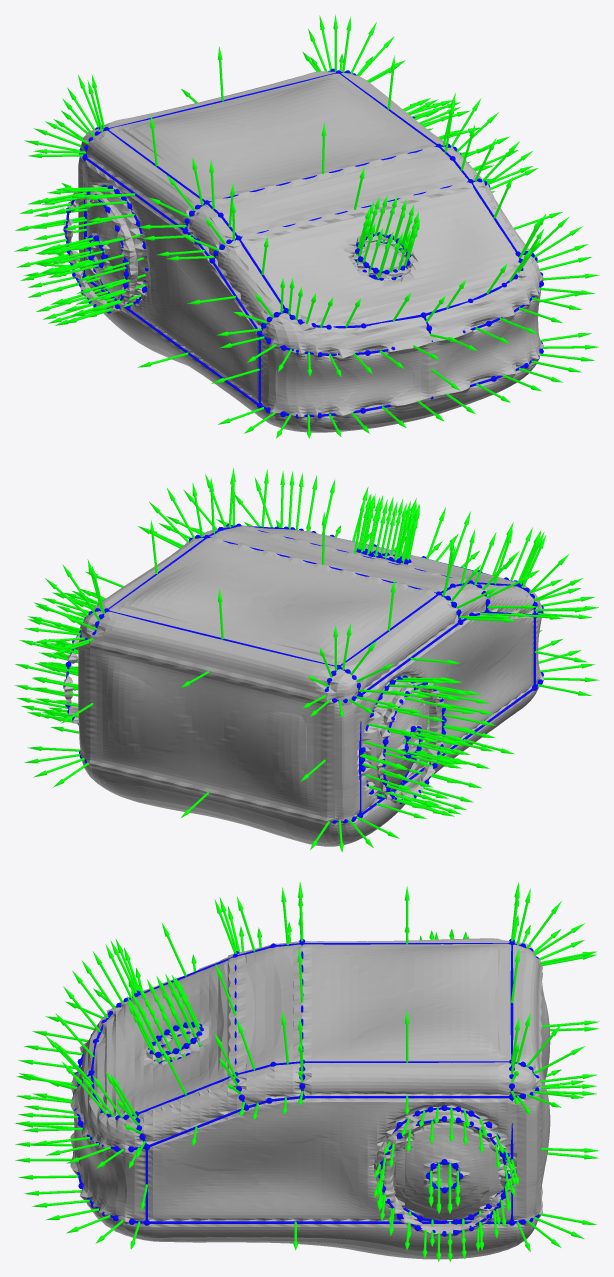
Rendered from onshape_vacuum.gltf.
3 views of the same model, one above another, from view 1: azimuth 30°, elevation 25°; view 2: azimuth 150°, elevation 25°; view 3: azimuth 270°, elevation 25° (orthographic). The views are drawn at different scales.
Size of the model in its own units: 0.8155 by 0.477 by 0.9422.
